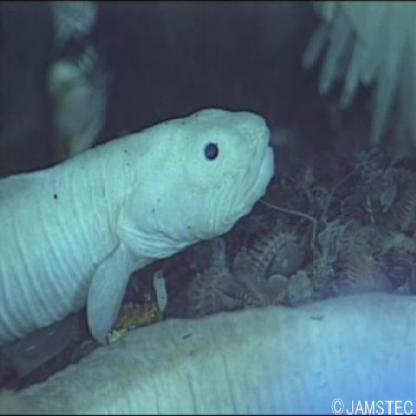Bio: (1, 101, 280, 346)
